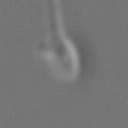normal: (40, 1, 68, 37)
